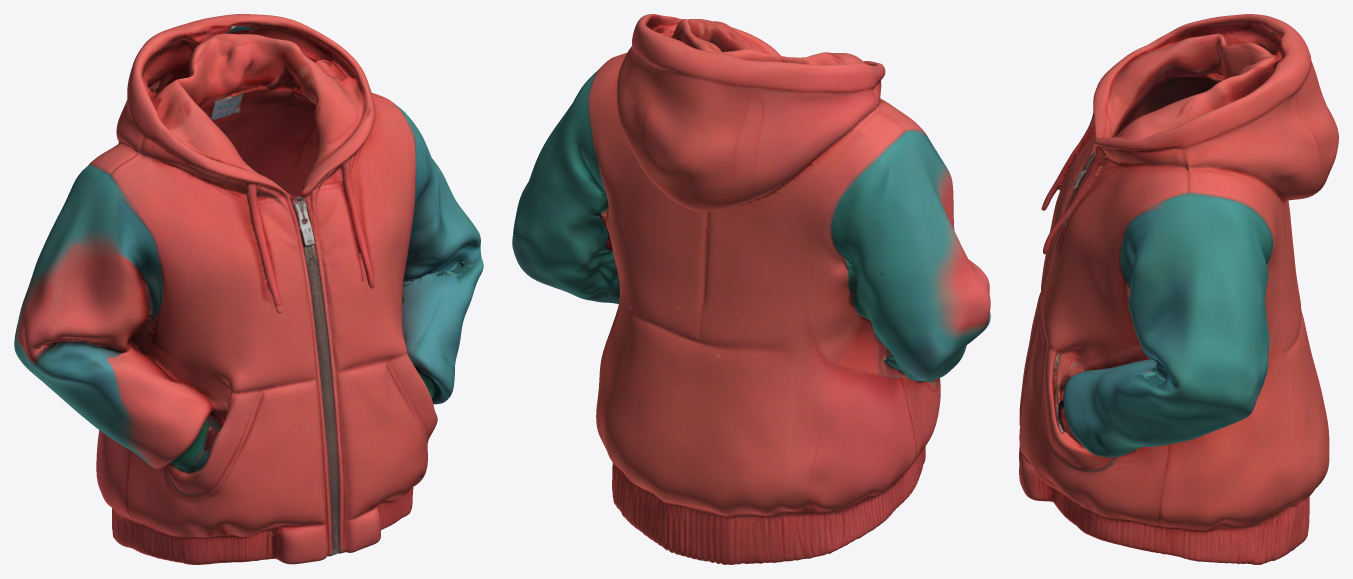
File: jacket.glb
The picture shows the model from 3 angles, left to right: view 1: azimuth 30°, elevation 25°; view 2: azimuth 150°, elevation 25°; view 3: azimuth 270°, elevation 25°; orthographic projection. The views are drawn at different scales.
Size of the model in its own units: 63298 by 65539 by 39495.
1 material, 1 textured.
